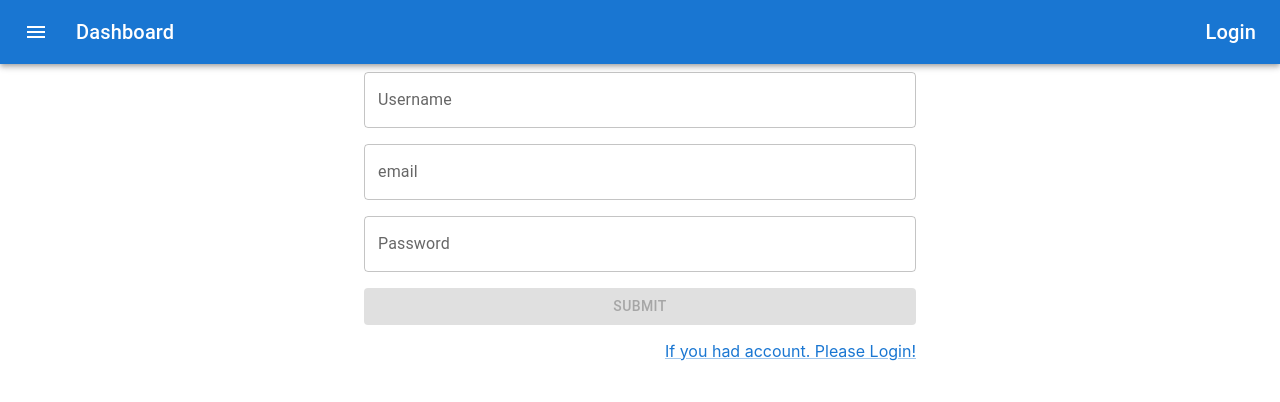
it: Register spec › Error if username is smaller
The width and height of the screenshot is (1280, 402).
Type "ad" into the field with id "username" at (640, 100), box [364,72,916,128]
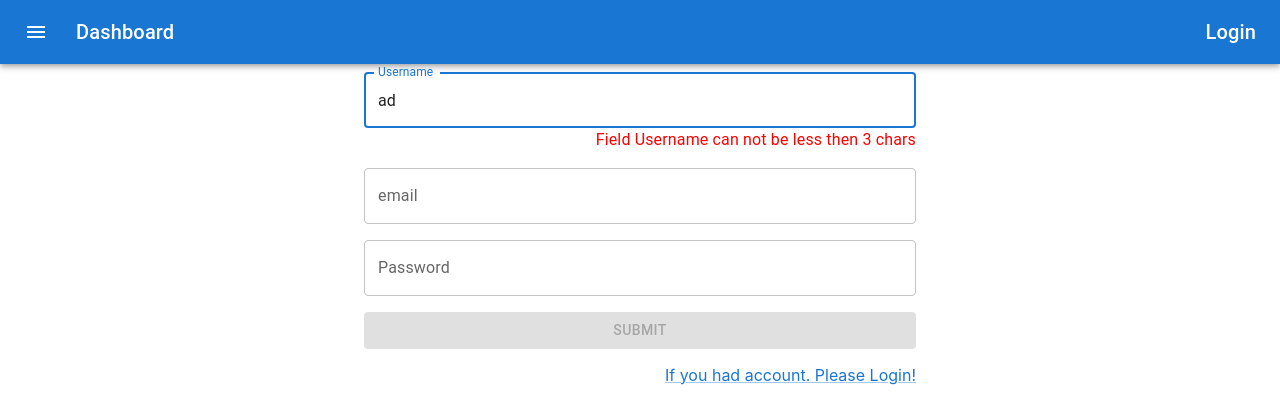
Result: the text "Field Username can not be less then 3 chars" is shown at [596,130,916,149]
